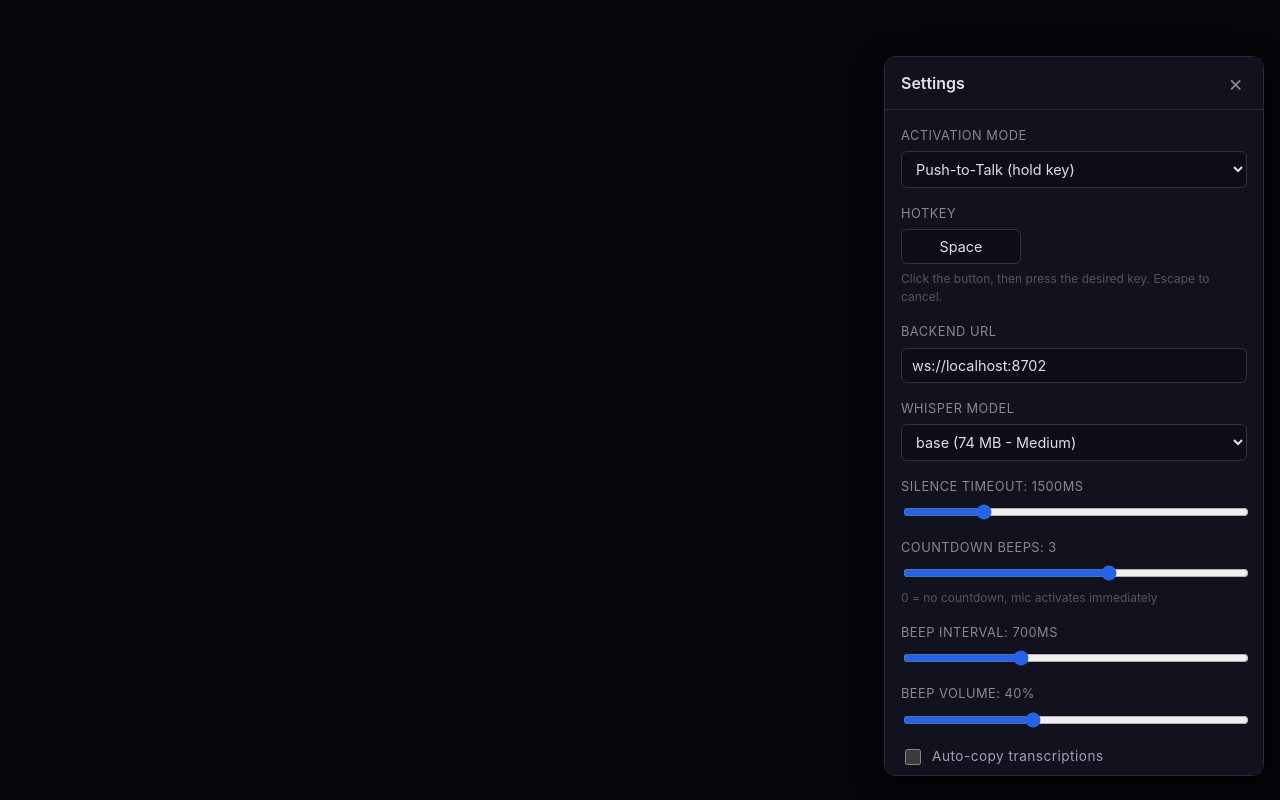
Test: SettingsPanel › shows key capture button in listening mode on click
Note: Find key capture button showing "Space"
Click the button "Space" at (961, 247), box [901,229,1021,264]
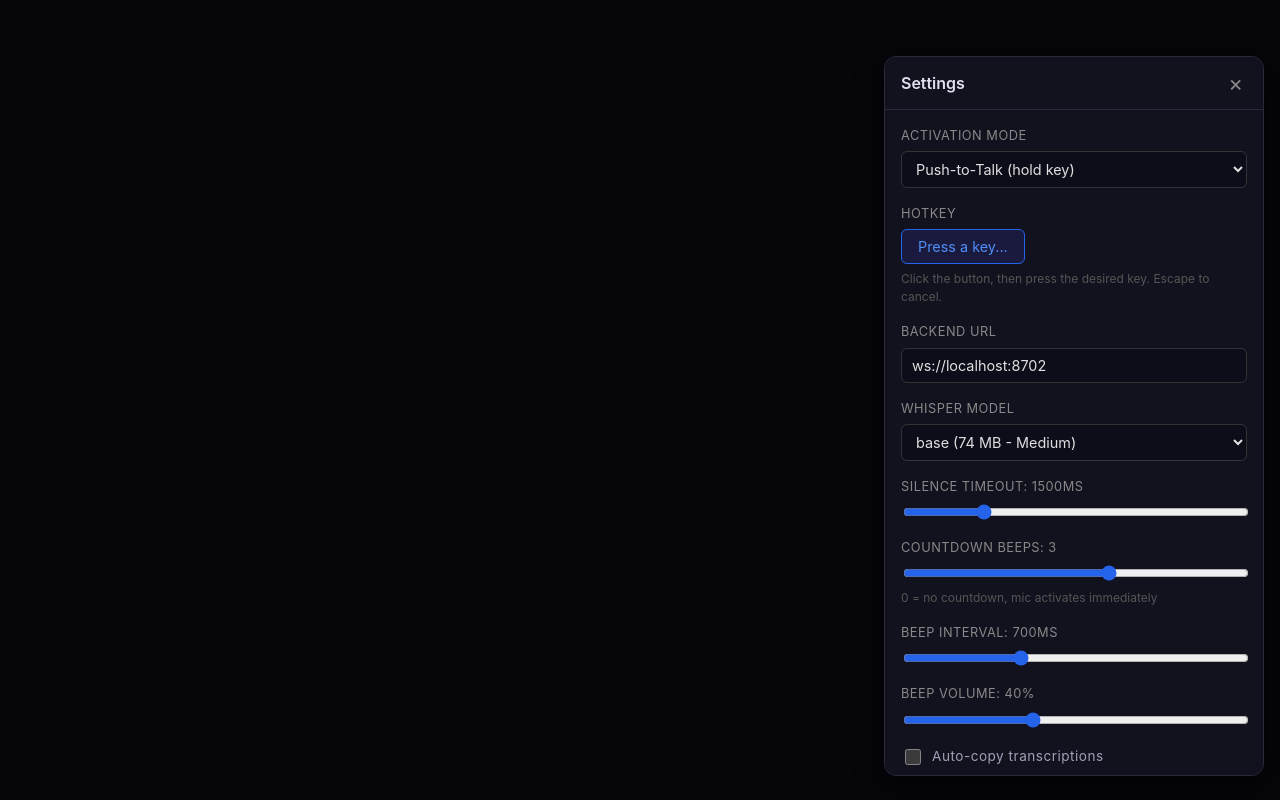
expect the button "Press a key..." is shown: met, box [901,229,1025,264]
